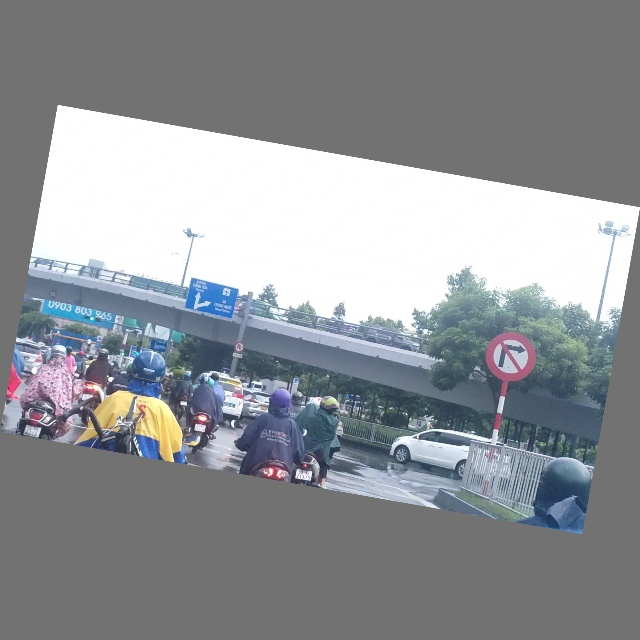P.123b: (481, 328, 540, 388)
P.124b1: (233, 342, 245, 354)
